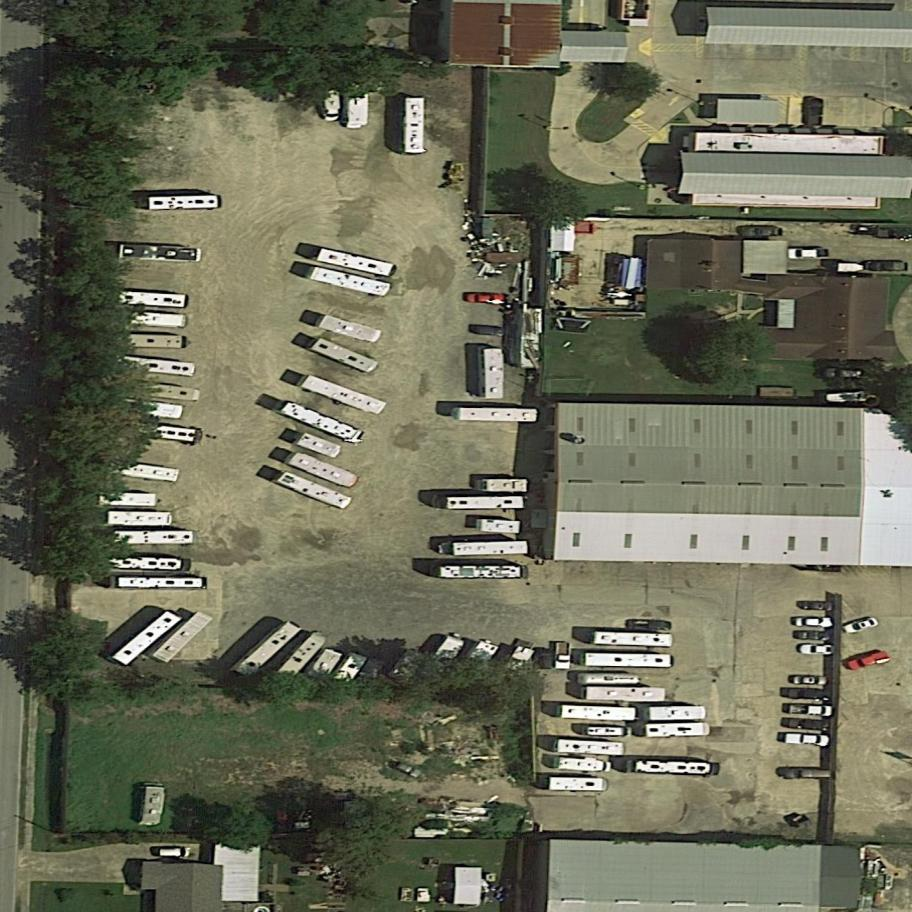large-vehicle: (231, 615, 305, 683), (111, 606, 183, 671), (279, 398, 366, 445), (300, 373, 388, 418), (151, 606, 214, 667), (273, 625, 332, 686), (277, 468, 354, 513), (288, 449, 360, 491), (308, 264, 392, 299), (312, 334, 381, 376), (317, 246, 395, 278), (317, 313, 384, 346), (129, 421, 199, 445), (400, 97, 428, 155), (632, 758, 721, 776), (121, 356, 197, 377), (107, 555, 194, 573), (120, 397, 185, 421), (583, 651, 674, 668), (296, 430, 343, 461), (134, 381, 200, 403), (119, 460, 182, 483), (459, 405, 539, 423), (121, 244, 201, 262), (117, 289, 189, 309), (560, 704, 637, 722), (116, 575, 208, 590), (557, 738, 625, 757), (586, 686, 666, 702), (438, 564, 523, 579), (481, 346, 505, 399), (593, 632, 675, 647), (449, 540, 530, 555), (148, 195, 222, 210), (447, 496, 526, 510), (129, 310, 186, 329), (558, 755, 614, 774), (115, 531, 195, 544), (645, 722, 711, 737), (109, 511, 173, 526), (99, 491, 158, 507), (549, 777, 611, 792), (648, 706, 707, 721), (126, 334, 184, 348), (587, 726, 632, 737)
small-vehicle: (842, 649, 894, 675), (344, 86, 372, 131), (841, 615, 882, 637), (783, 716, 830, 732), (819, 365, 866, 381), (390, 759, 424, 781), (787, 702, 833, 718), (464, 290, 508, 306), (627, 618, 675, 632), (782, 766, 832, 779), (785, 732, 831, 746), (321, 89, 341, 121), (804, 98, 826, 126), (787, 247, 831, 261), (469, 322, 506, 338), (739, 226, 783, 239), (554, 641, 573, 671), (788, 687, 828, 701), (794, 614, 834, 628), (865, 260, 908, 272), (795, 629, 833, 642), (154, 845, 191, 858), (801, 599, 835, 613), (791, 674, 829, 686), (800, 642, 835, 655)
